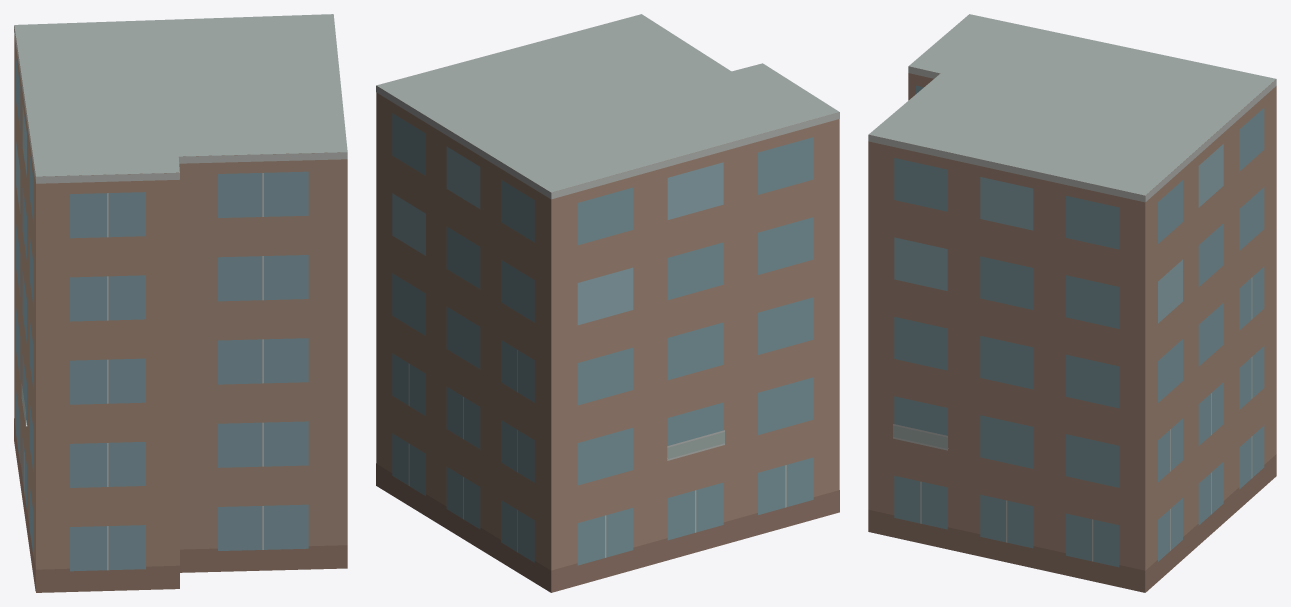
The model's file is survey-upis-32957706.glb.
3 views of the same model, side by side, from view 1: azimuth 30°, elevation 25°; view 2: azimuth 150°, elevation 25°; view 3: azimuth 270°, elevation 25° (orthographic). The views are drawn at different scales.
Parts seen in each view (by area): view 1: survey-upis-32957706.tmp; view 2: survey-upis-32957706.tmp; view 3: survey-upis-32957706.tmp.
Part boxes in pixels (<box>): survey-upis-32957706.tmp: <box>14,14,347,592</box>; survey-upis-32957706.tmp: <box>376,14,839,592</box>; survey-upis-32957706.tmp: <box>868,14,1276,592</box>.
Bounding box in the file's own units: 13.98 × 14.25 × 13.28.
